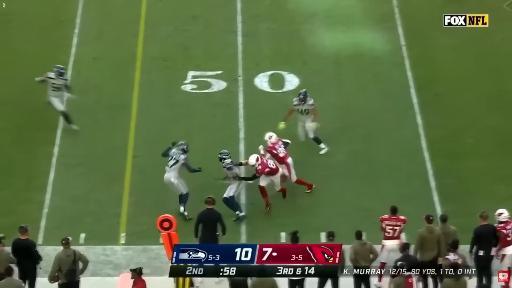Helmet: (495, 209, 509, 221), (264, 132, 278, 143), (175, 142, 188, 153), (248, 155, 261, 166), (54, 65, 65, 77), (219, 150, 230, 162), (298, 90, 308, 102)
Jersey: (380, 215, 406, 244), (44, 73, 68, 97), (267, 139, 289, 164), (496, 220, 511, 254), (166, 149, 187, 173), (293, 98, 314, 119), (256, 156, 279, 175), (222, 159, 241, 181)
Player: (260, 132, 314, 192), (279, 90, 328, 154), (162, 142, 201, 220), (36, 66, 78, 129), (238, 155, 286, 210), (219, 150, 245, 221), (379, 206, 406, 270), (495, 209, 511, 272)
